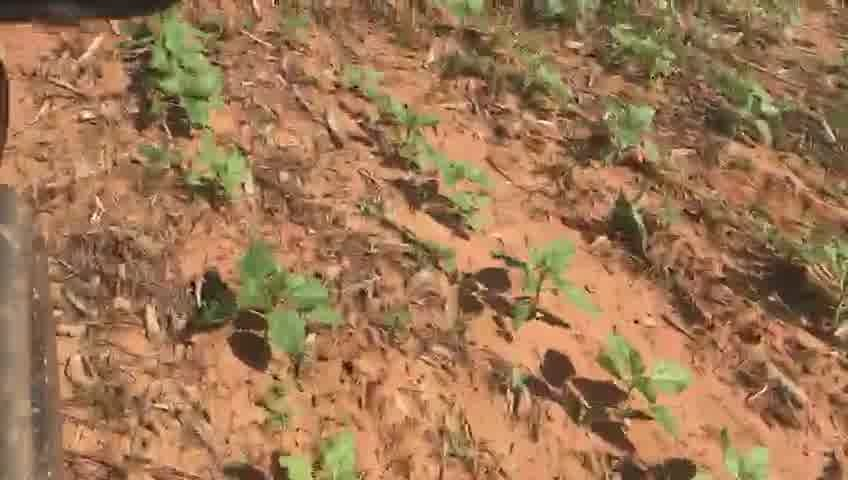sunflower: (215, 240, 339, 358), (591, 332, 690, 428), (142, 18, 223, 121), (510, 240, 603, 321), (420, 153, 501, 226), (185, 136, 259, 197), (276, 425, 363, 476), (699, 427, 779, 474), (383, 103, 441, 144)
